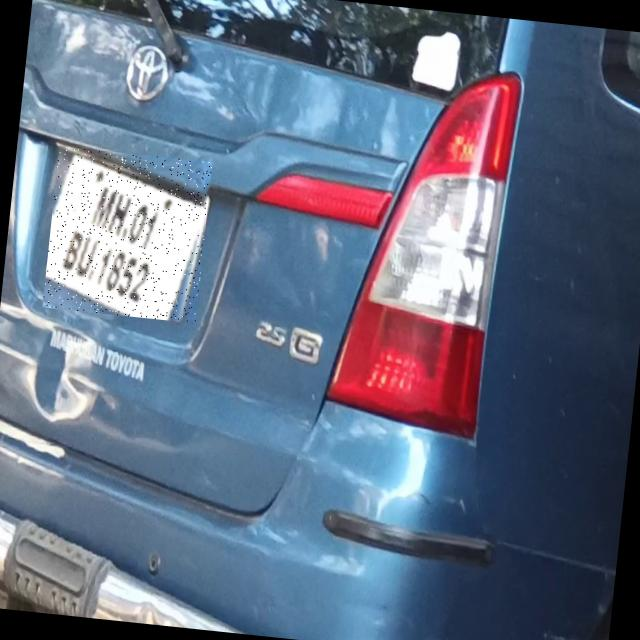Plate: (43, 148, 213, 325)
